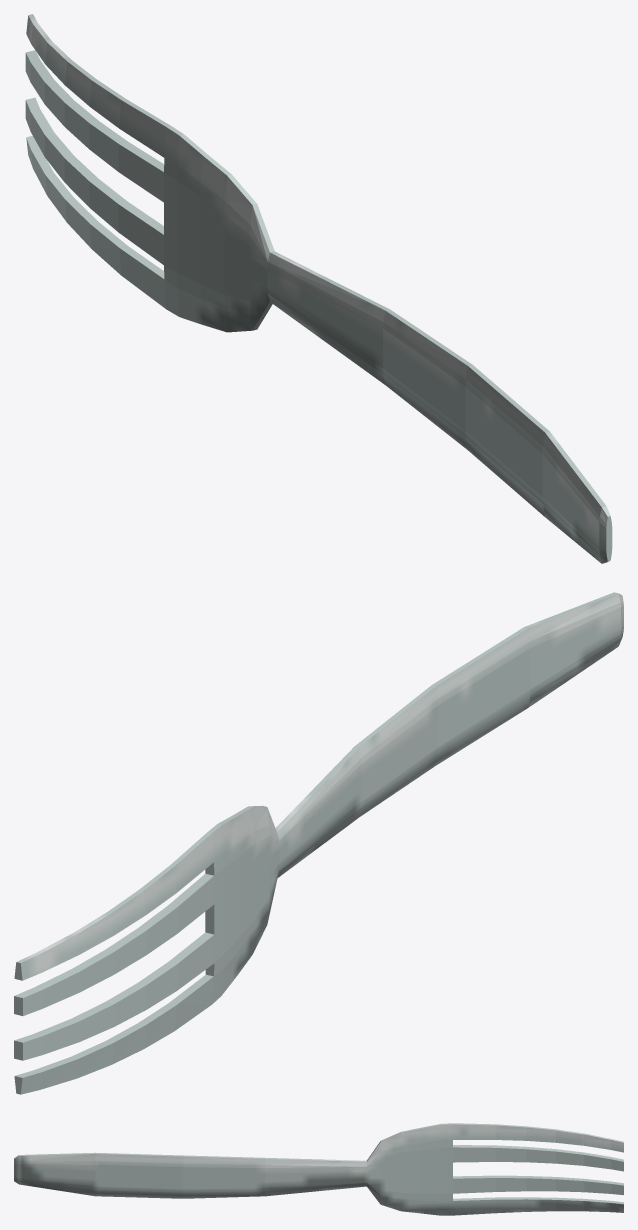
The model's file is fork_bullet.fbx.
The picture shows the model from 3 angles, top to bottom: view 1: azimuth 30°, elevation 25°; view 2: azimuth 150°, elevation 25°; view 3: azimuth 270°, elevation 25°; orthographic projection. The views are drawn at different scales.
Parts seen in each view (by area): view 1: Box003; view 2: Box003; view 3: Box003.
Boxes of the visible parts, left/top/right/bottom form: Box003: left=25, top=14, right=612, bottom=563; Box003: left=14, top=592, right=623, bottom=1094; Box003: left=14, top=1123, right=623, bottom=1215.
Size of the model in its own units: 2.61 by 10.11 by 61.28.
